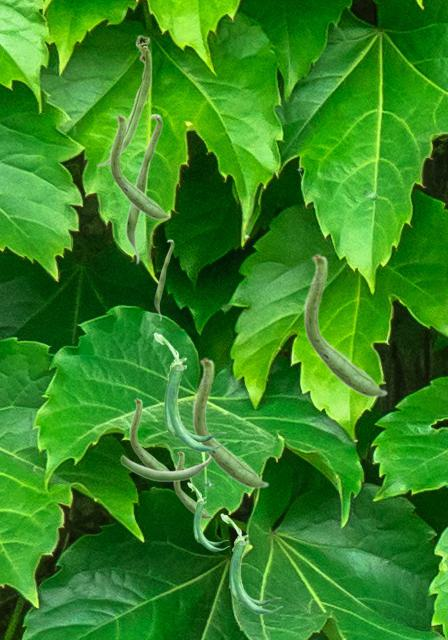french_bean: (303, 252, 387, 397), (192, 356, 268, 488), (153, 332, 226, 451), (96, 34, 151, 166), (109, 113, 170, 219), (220, 513, 281, 613), (125, 113, 162, 264), (129, 397, 169, 469), (187, 482, 228, 550), (173, 450, 212, 518), (120, 454, 211, 481), (154, 239, 173, 320)
